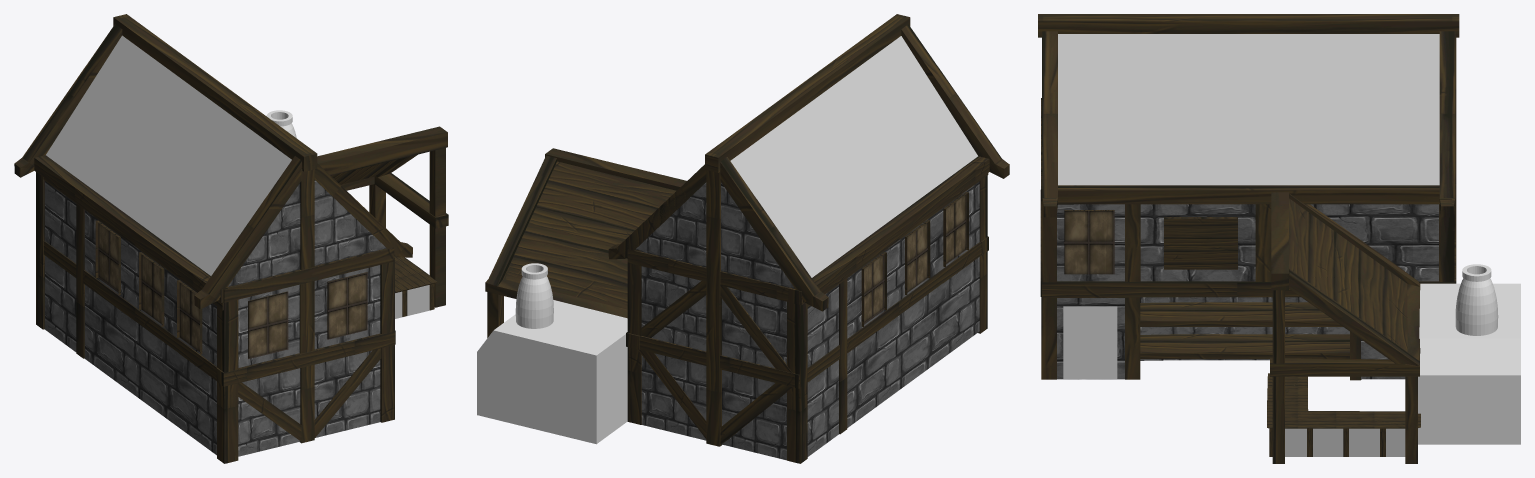
File: Bakery.fbx
The picture shows the model from 3 angles, left to right: view 1: azimuth 30°, elevation 25°; view 2: azimuth 150°, elevation 25°; view 3: azimuth 270°, elevation 25°; orthographic projection. The views are drawn at different scales.
Parts seen in each view (by area): view 1: Cube, Cube.003, Cube.002; view 2: Cube, Cube.003, Cube.001, Sphere; view 3: Cube, Cube.003, Cube.001, Cube.002, Cube.004, Sphere.
Part boxes in pixels (x1,y1,x2,y2): Cube: (14,14,412,463); Cube.003: (317,126,448,307); Cube.002: (394,256,438,318); Cube: (608,14,1009,463); Cube.003: (485,148,686,337); Cube.001: (477,300,627,444); Sphere: (515,263,553,328); Cube: (1038,14,1459,380); Cube.003: (1270,192,1420,463); Cube.001: (1418,283,1520,444); Cube.002: (1267,373,1420,456); Cube.004: (1063,306,1117,378); Sphere: (1455,264,1498,335).
Bounding box in the file's own units: 592 × 466 × 639.
